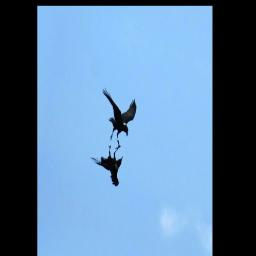Crow: (95, 85, 138, 154)
